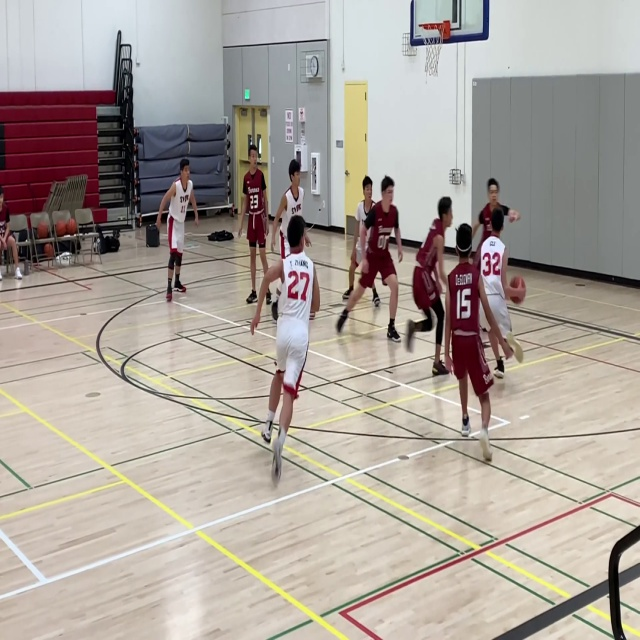Basketball: (508, 276, 526, 303), (55, 220, 67, 237), (37, 222, 49, 238), (66, 218, 77, 234), (43, 243, 54, 257)
